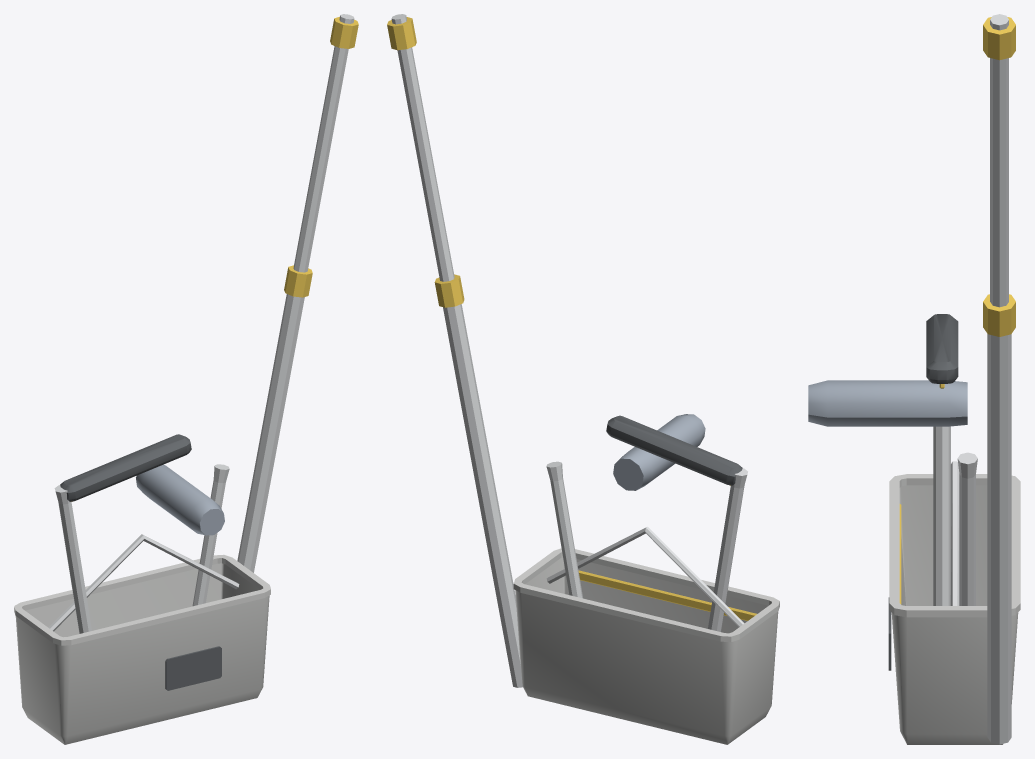
File: laundrette-and-cleaning-window-cleaning-kit-07619a04__25578.glb
3 views of the same model, side by side, from view 1: azimuth 30°, elevation 25°; view 2: azimuth 150°, elevation 25°; view 3: azimuth 270°, elevation 25° (orthographic). The views are drawn at different scales.
Parts seen in each view (by area): view 1: window-cleaning-kit; view 2: window-cleaning-kit; view 3: window-cleaning-kit.
Part boxes in pixels (bbox=[...]): window-cleaning-kit: bbox=[14, 14, 358, 744]; window-cleaning-kit: bbox=[387, 14, 779, 744]; window-cleaning-kit: bbox=[808, 14, 1020, 744].
Bounding box in the file's own units: 0.7946 × 1.4 × 0.333.
